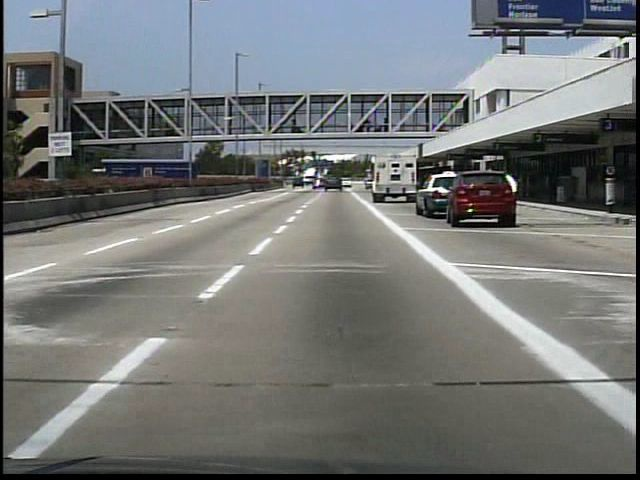person: (500, 172, 520, 228)
